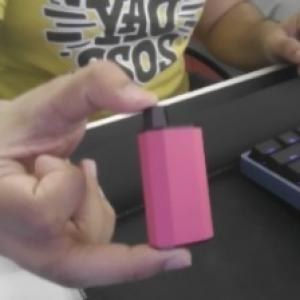Blume-E-Ciggirate: (137, 104, 218, 251)
